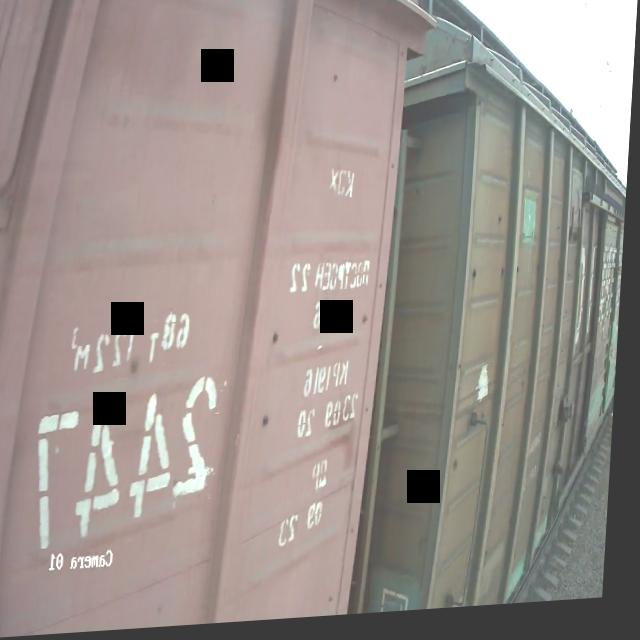boxcar: (0, 0, 444, 640), (377, 0, 640, 619)
